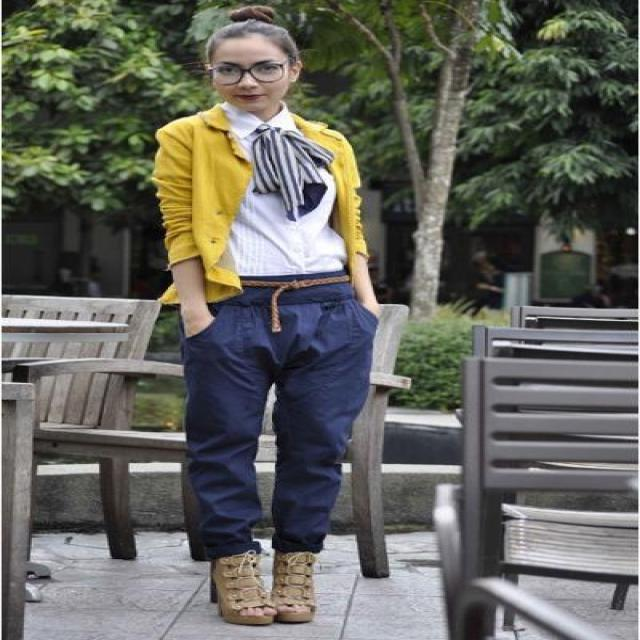jacket: (150, 101, 380, 312)
pants: (173, 274, 381, 567)
shirt: (227, 102, 360, 276)
shoe: (210, 538, 315, 626)
